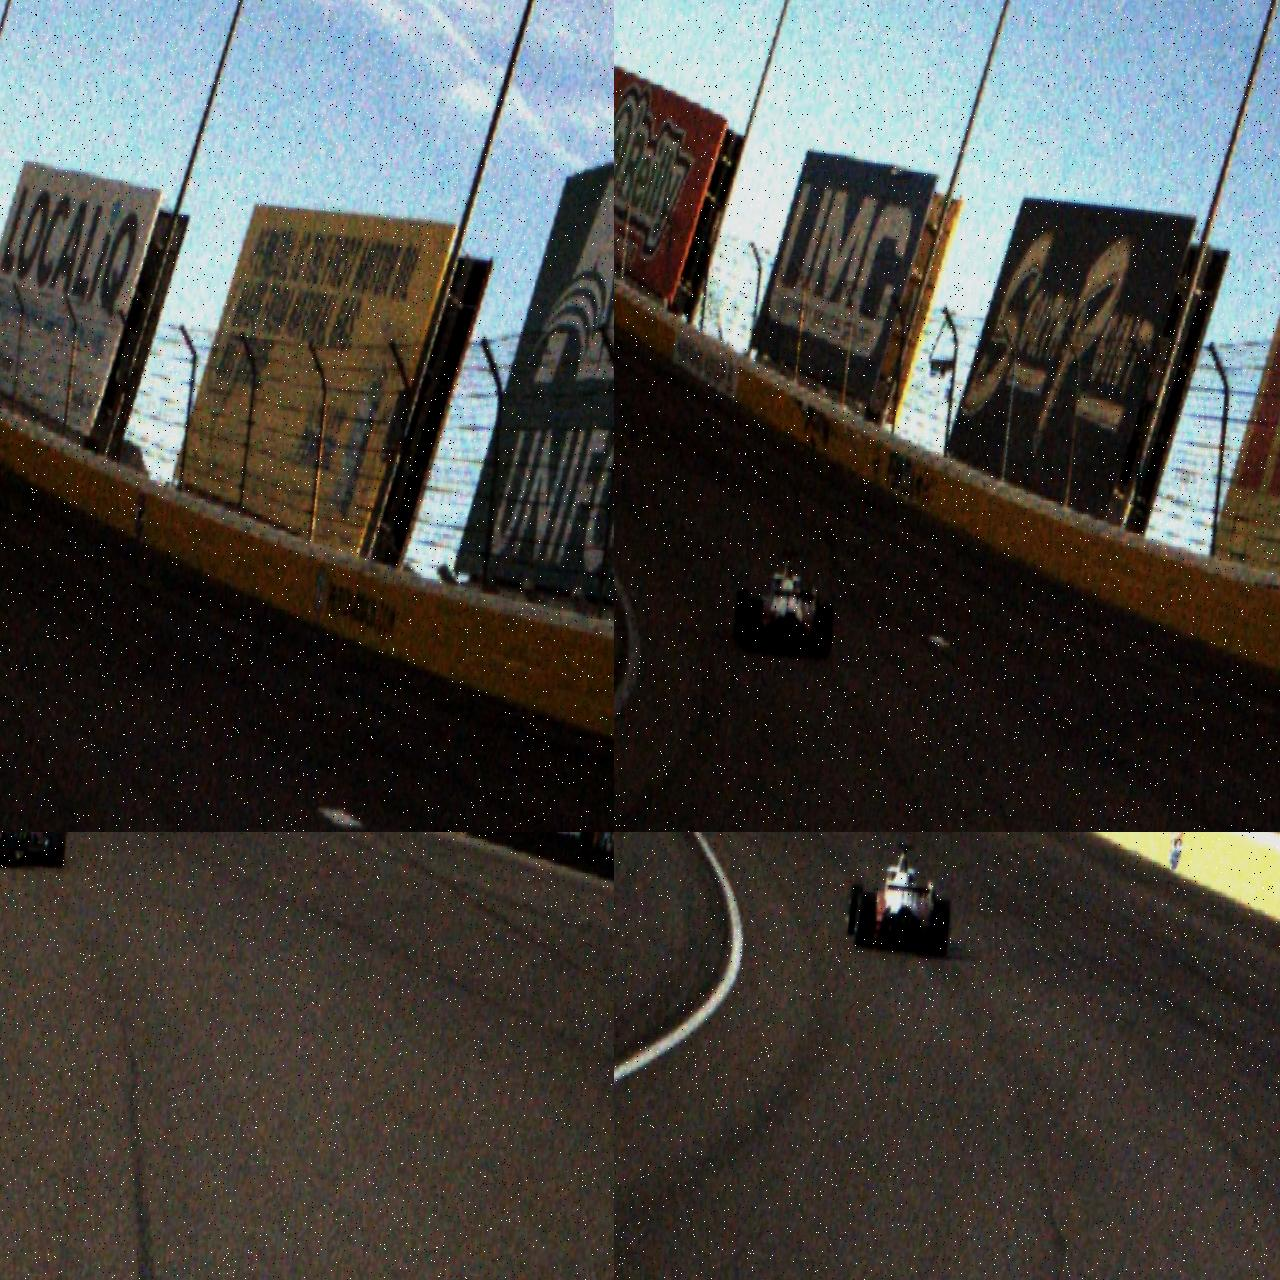AV: (842, 836, 959, 960), (730, 546, 840, 661), (0, 832, 74, 878)
Wheel: (853, 891, 879, 948), (811, 602, 836, 661), (930, 899, 953, 959), (741, 597, 764, 653), (731, 588, 751, 642), (846, 883, 864, 937), (45, 832, 70, 869)
